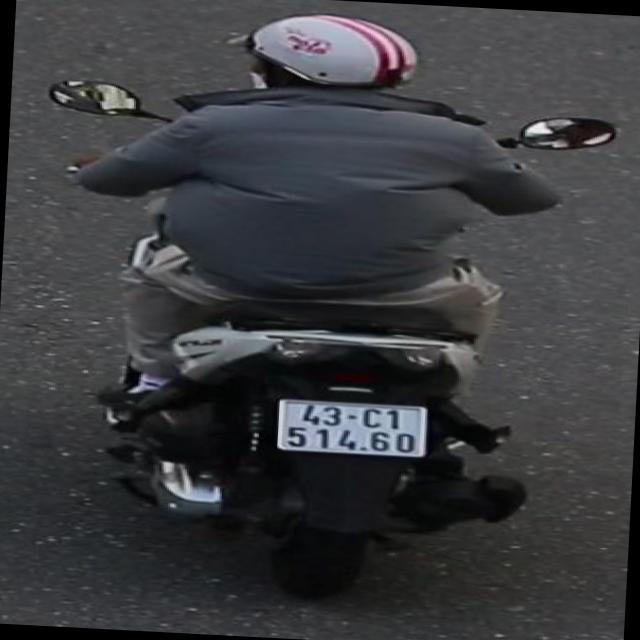LP: (266, 397, 440, 462)
helmet: (215, 2, 432, 118)
